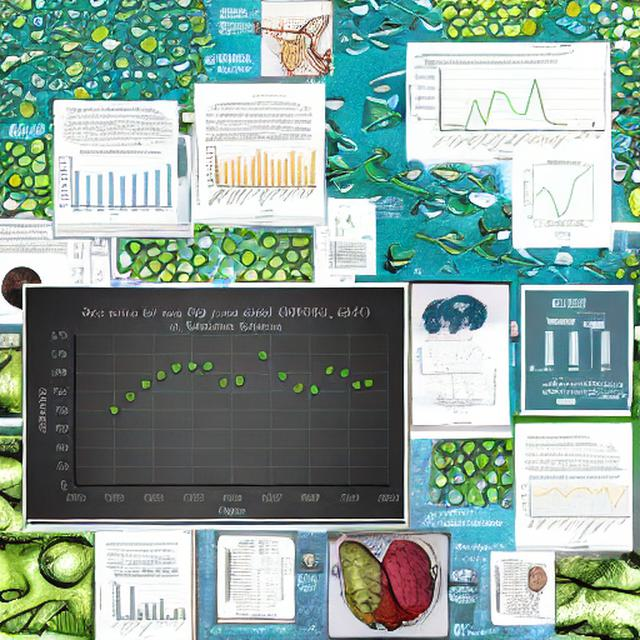Graph: (27, 295, 404, 519), (408, 58, 573, 155), (194, 137, 319, 214), (55, 148, 177, 218), (518, 474, 632, 543), (514, 156, 610, 228), (98, 569, 188, 639), (413, 338, 483, 380)
